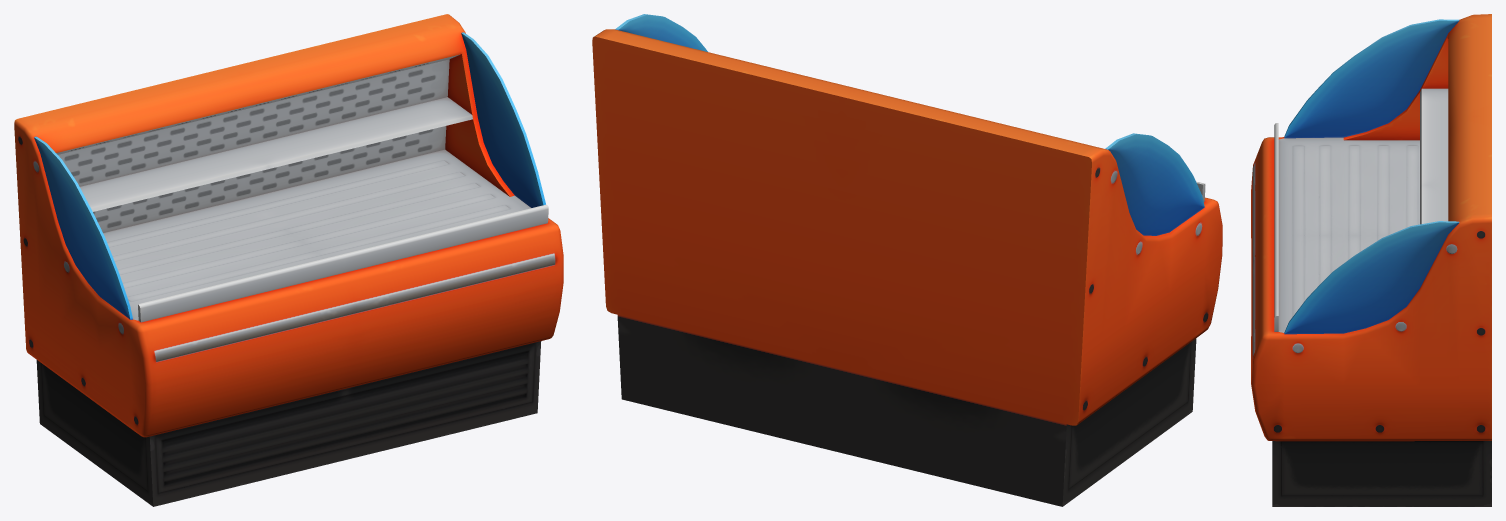
Rendered from CommRefrigerator03.FBX.
The picture shows the model from 3 angles, left to right: view 1: azimuth 30°, elevation 25°; view 2: azimuth 150°, elevation 25°; view 3: azimuth 270°, elevation 25°; orthographic projection. The views are drawn at different scales.
Visible parts, largest first — view 1: CommRefrigerator03; view 2: CommRefrigerator03; view 3: CommRefrigerator03.
Boxes of the visible parts, x1=… form: CommRefrigerator03: x1=14, y1=14, x2=563, y2=506; CommRefrigerator03: x1=592, y1=14, x2=1222, y2=506; CommRefrigerator03: x1=1251, y1=14, x2=1491, y2=506.
Size of what is drawn, in the model's own units: 1.63 by 1.11 by 0.8045.
